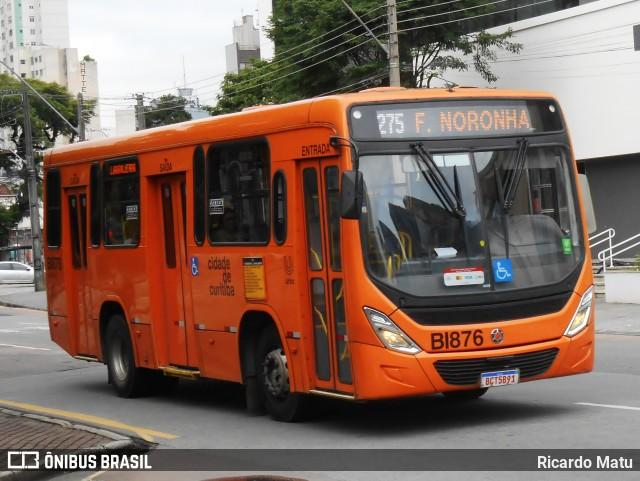F. NORONHA: (409, 104, 537, 138)
